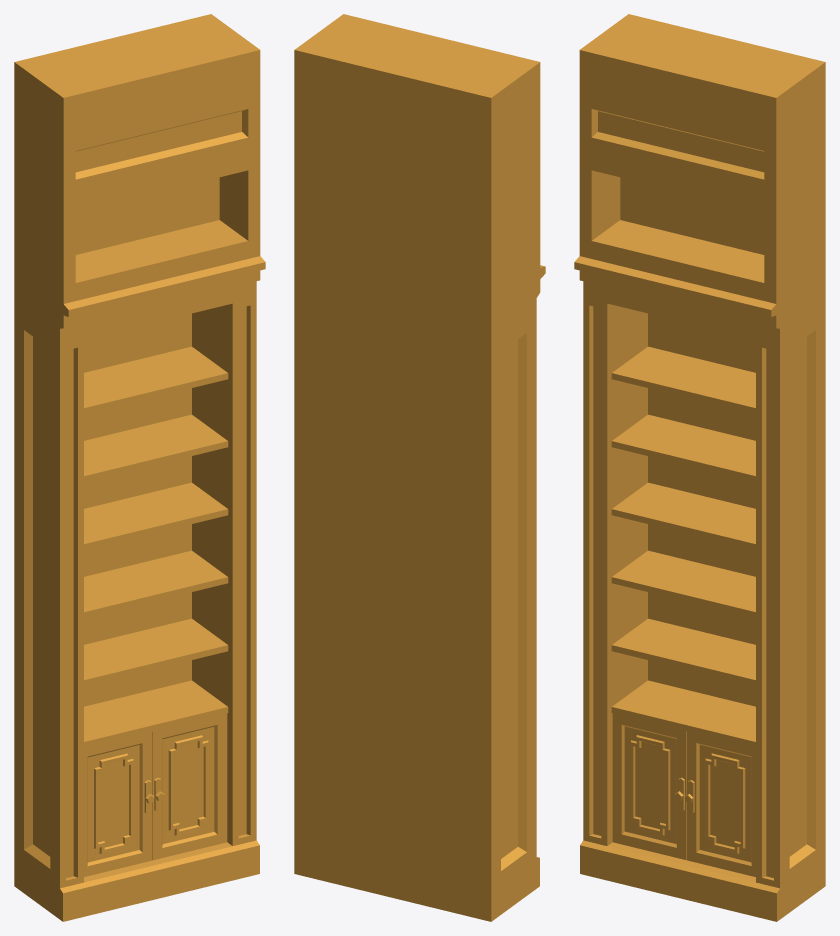
The model's file is Sm_Bookcase_Tall_Modular_Cabinet_1m.fbx.
The picture shows the model from 3 angles, left to right: view 1: azimuth 30°, elevation 25°; view 2: azimuth 150°, elevation 25°; view 3: azimuth 330°, elevation 25°; orthographic projection.
Visible parts, largest first — view 1: library-tall-modular-cabinet-1m-base, library-tall-modular-cabinet-1m-door-r, library-tall-modular-cabinet-1m-door-l; view 2: library-tall-modular-cabinet-1m-base; view 3: library-tall-modular-cabinet-1m-base, library-tall-modular-cabinet-1m-door-l, library-tall-modular-cabinet-1m-door-r.
Boxes of the visible parts, x1,y1,x2,y2 form: library-tall-modular-cabinet-1m-base: (14,14,265,921); library-tall-modular-cabinet-1m-door-r: (152,713,227,860); library-tall-modular-cabinet-1m-door-l: (84,731,154,876); library-tall-modular-cabinet-1m-base: (294,14,545,921); library-tall-modular-cabinet-1m-base: (574,14,825,921); library-tall-modular-cabinet-1m-door-l: (612,713,686,860); library-tall-modular-cabinet-1m-door-r: (684,731,755,876).
Bounding box in the file's own units: 1 × 4 × 0.4778.
